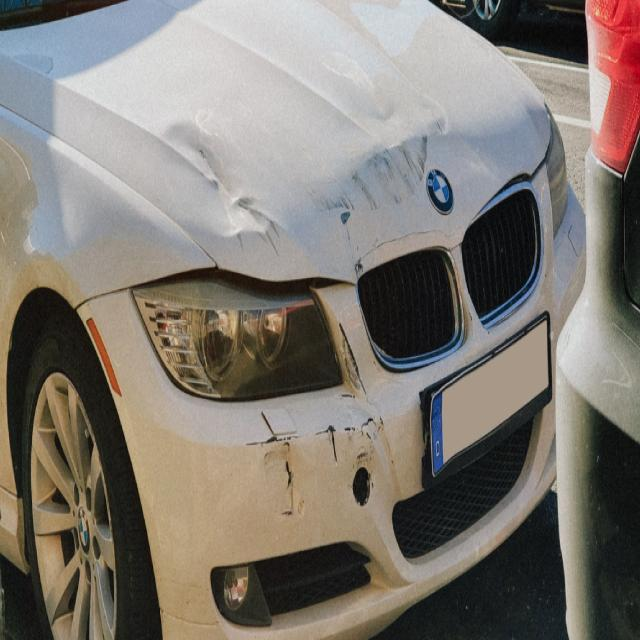dent: (320, 71, 456, 222), (156, 114, 290, 255)
scratch: (300, 131, 431, 282), (245, 432, 308, 519), (343, 410, 395, 488), (235, 195, 281, 259), (337, 315, 368, 403), (315, 424, 339, 464)
